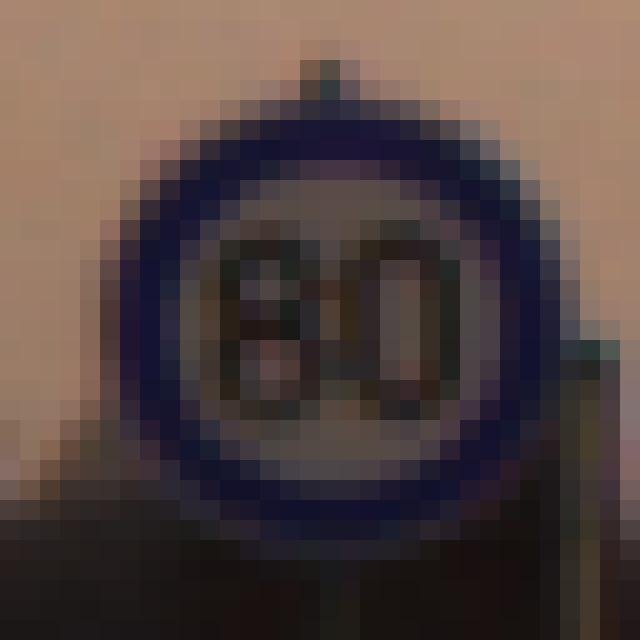SPEED-LIMIT-80: (116, 118, 552, 530)
